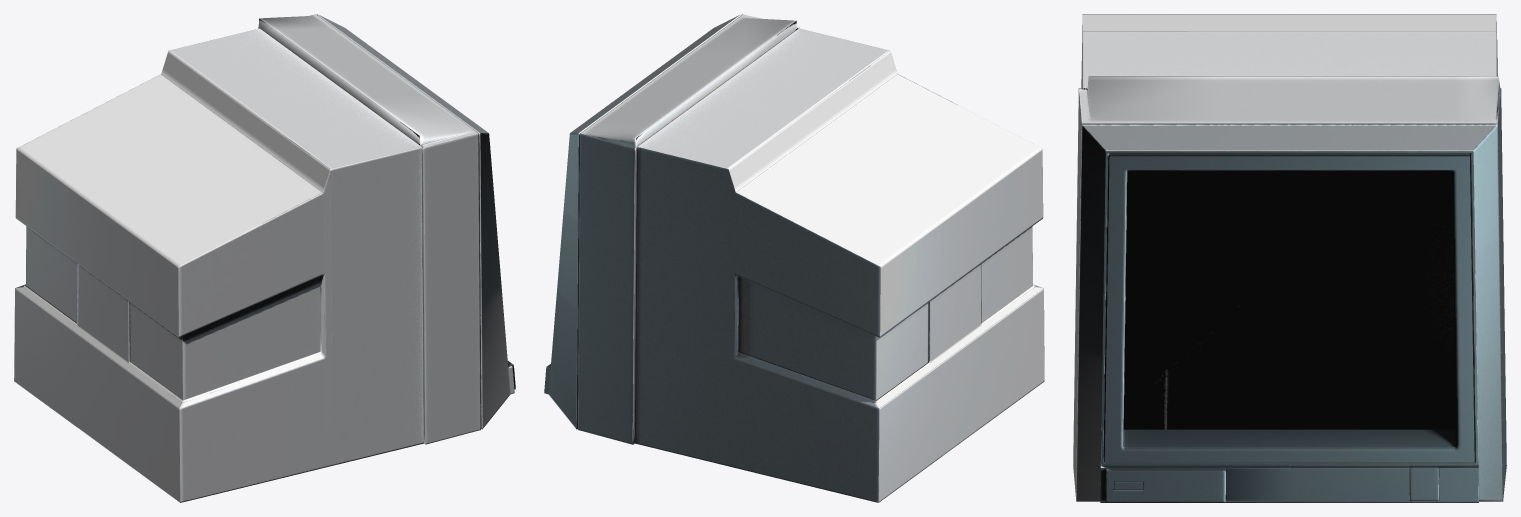
Rendered from crt.glb.
The picture shows the model from 3 angles, left to right: view 1: azimuth 30°, elevation 25°; view 2: azimuth 150°, elevation 25°; view 3: azimuth 270°, elevation 25°; orthographic projection. The views are drawn at different scales.
Visible parts, largest first — view 1: Plastic_back, Plastic; view 2: Plastic_back, Plastic; view 3: Plastic, Plastic_back.
Part boxes in pixels (x1,y1,x2,y2): Plastic_back: [14, 28, 423, 502]; Plastic: [258, 14, 515, 444]; Plastic_back: [635, 28, 1044, 502]; Plastic: [544, 14, 800, 444]; Plastic: [1073, 76, 1506, 502]; Plastic_back: [1081, 14, 1497, 89].
Bounding box in the file's own units: 0.656 × 0.5506 × 0.5559.
2 materials, 2 textured.
